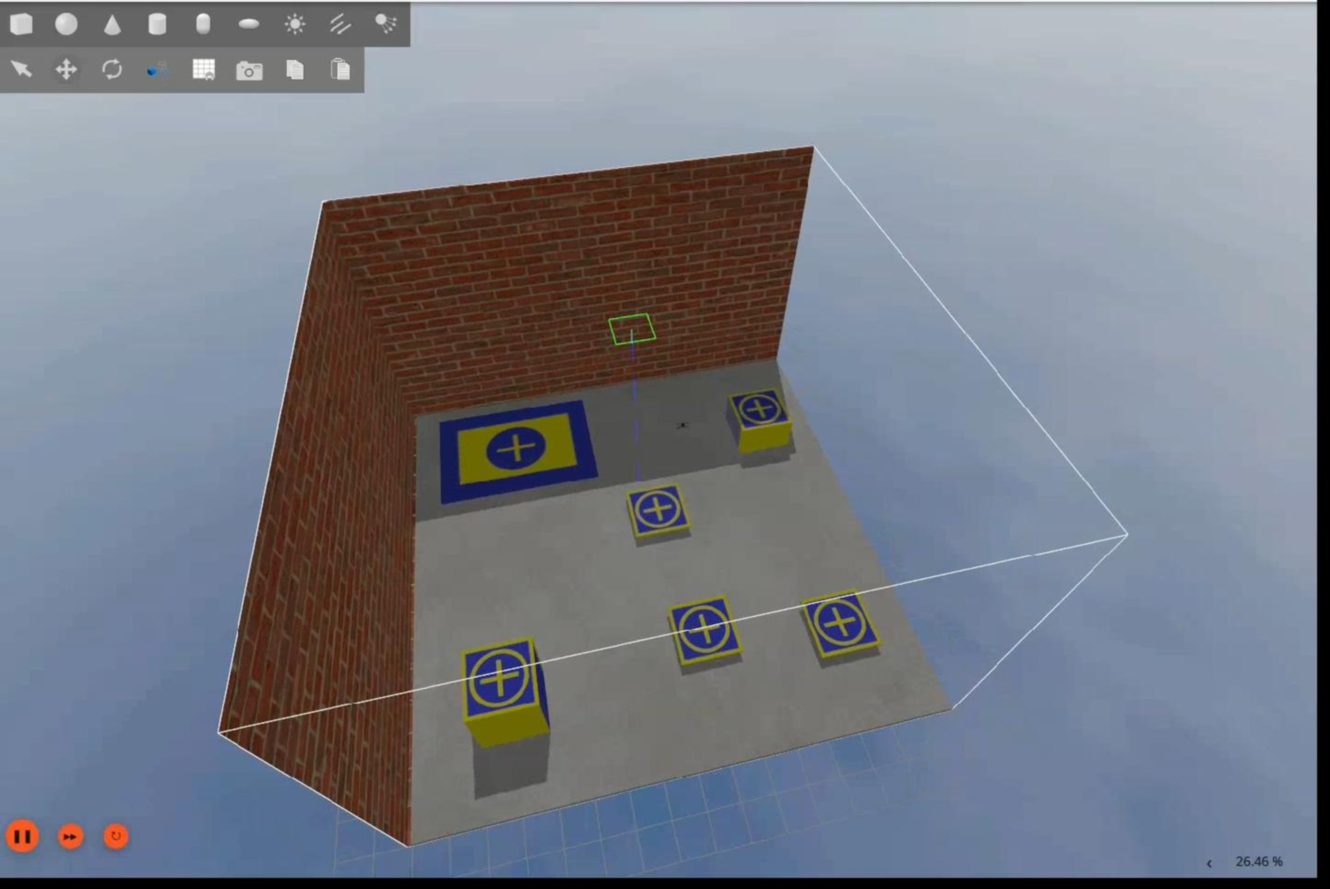large_base: (443, 402, 600, 505)
small_base: (462, 638, 543, 724), (803, 590, 883, 663), (669, 598, 745, 669), (625, 484, 693, 539), (728, 389, 794, 433)
